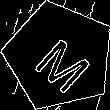M_NE: (25, 23, 94, 90)
